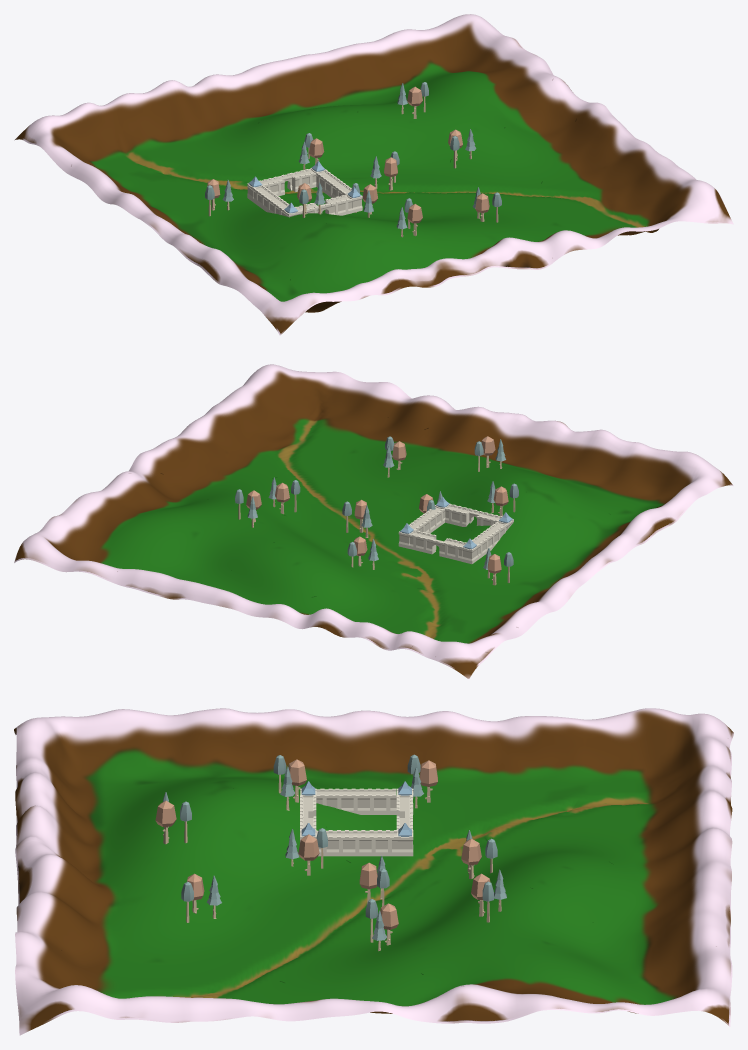
File: map.gltf
3 views of the same model, one above another, from view 1: azimuth 30°, elevation 25°; view 2: azimuth 150°, elevation 25°; view 3: azimuth 270°, elevation 25° (orthographic). The views are drawn at different scales.
Parts seen in each view (by area): view 1: Terrain; view 2: Terrain; view 3: Terrain, naturePack_069.007.
Boxes of the visible parts, x1,y1,x2,y2 form: Terrain: (14,14,733,335); Terrain: (14,364,733,679); Terrain: (14,708,733,1035); naturePack_069.007: (155,800,176,844).
Bounding box in the file's own units: 102 × 12.38 × 102.
Materials: 14 (1 with a texture image).
